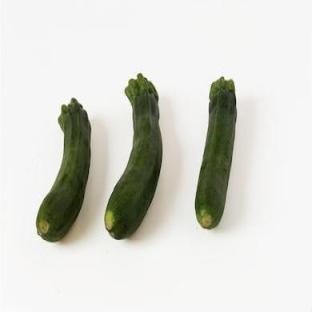Zucchini: (105, 75, 162, 238), (36, 99, 91, 241), (196, 77, 236, 229)
